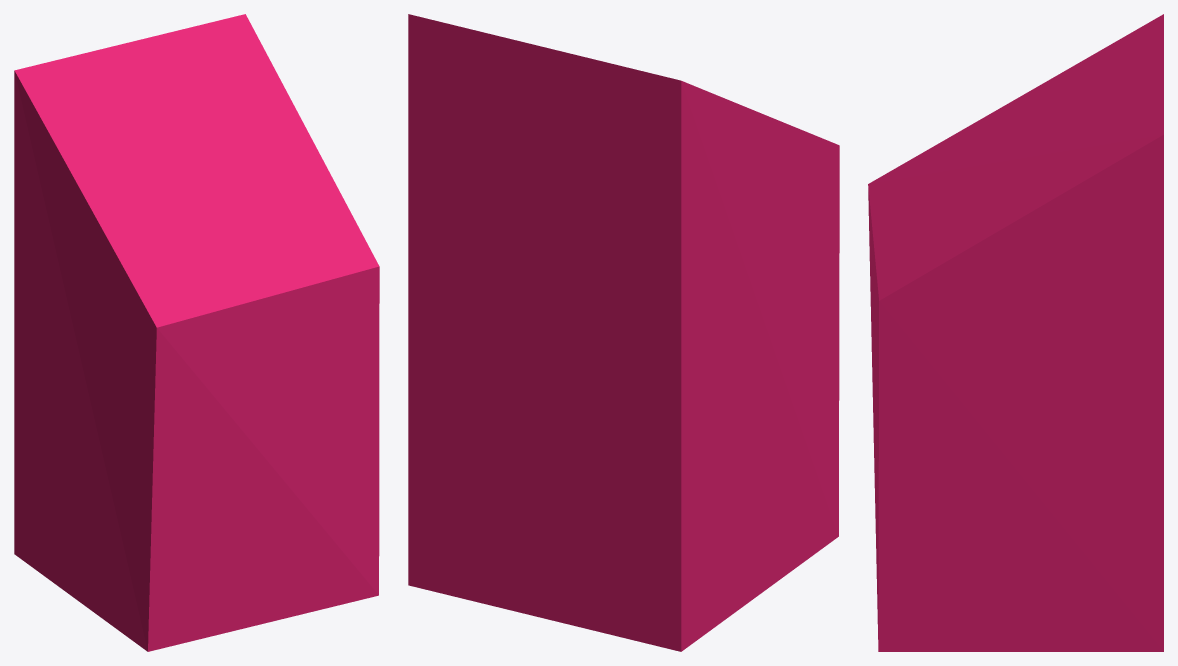
File: player.glb
3 renders of one model, left to right at view 1: azimuth 30°, elevation 25°; view 2: azimuth 150°, elevation 25°; view 3: azimuth 270°, elevation 25°, orthographic. The views are drawn at different scales.
Visible parts, largest first — view 1: Cube.001; view 2: Cube.001; view 3: Cube.001.
Part boxes in pixels (<box>): Cube.001: <box>14,14,379,651</box>; Cube.001: <box>408,14,839,651</box>; Cube.001: <box>868,14,1163,651</box>.
Size of the model in its own units: 2.01 by 4 by 2.07.
